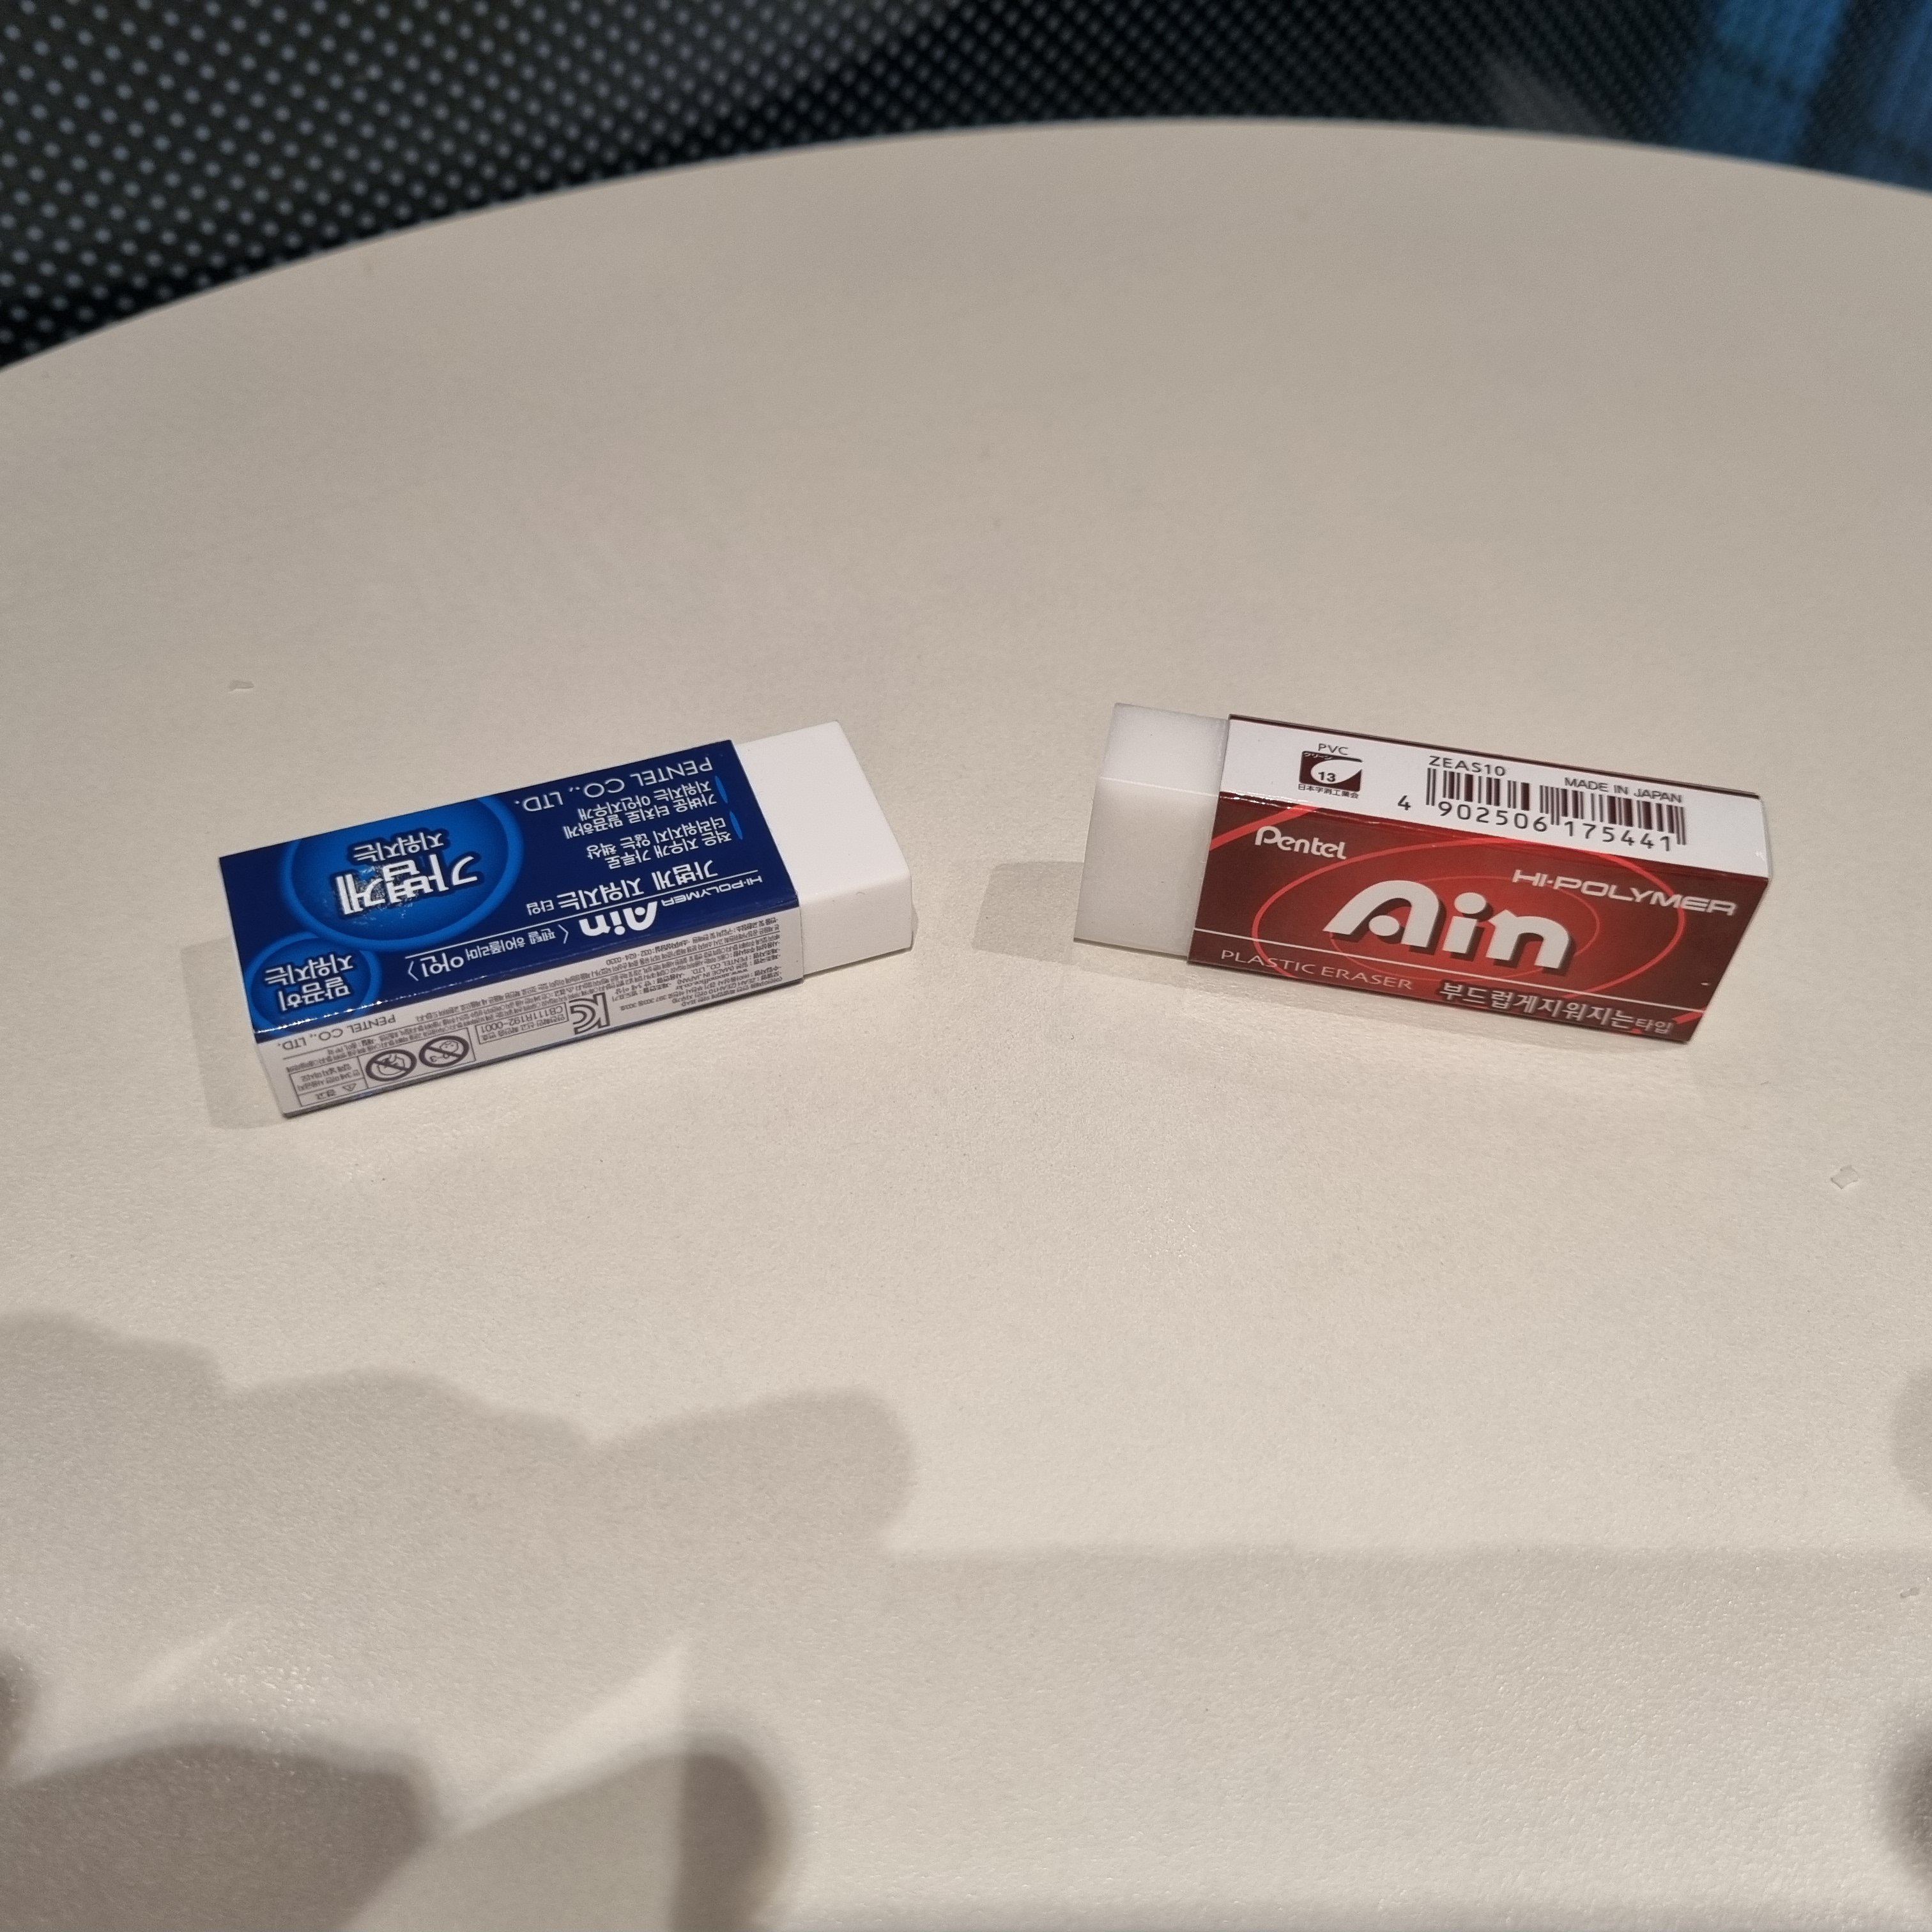blue: (223, 697, 932, 1120)
red: (1067, 690, 1780, 1063)
